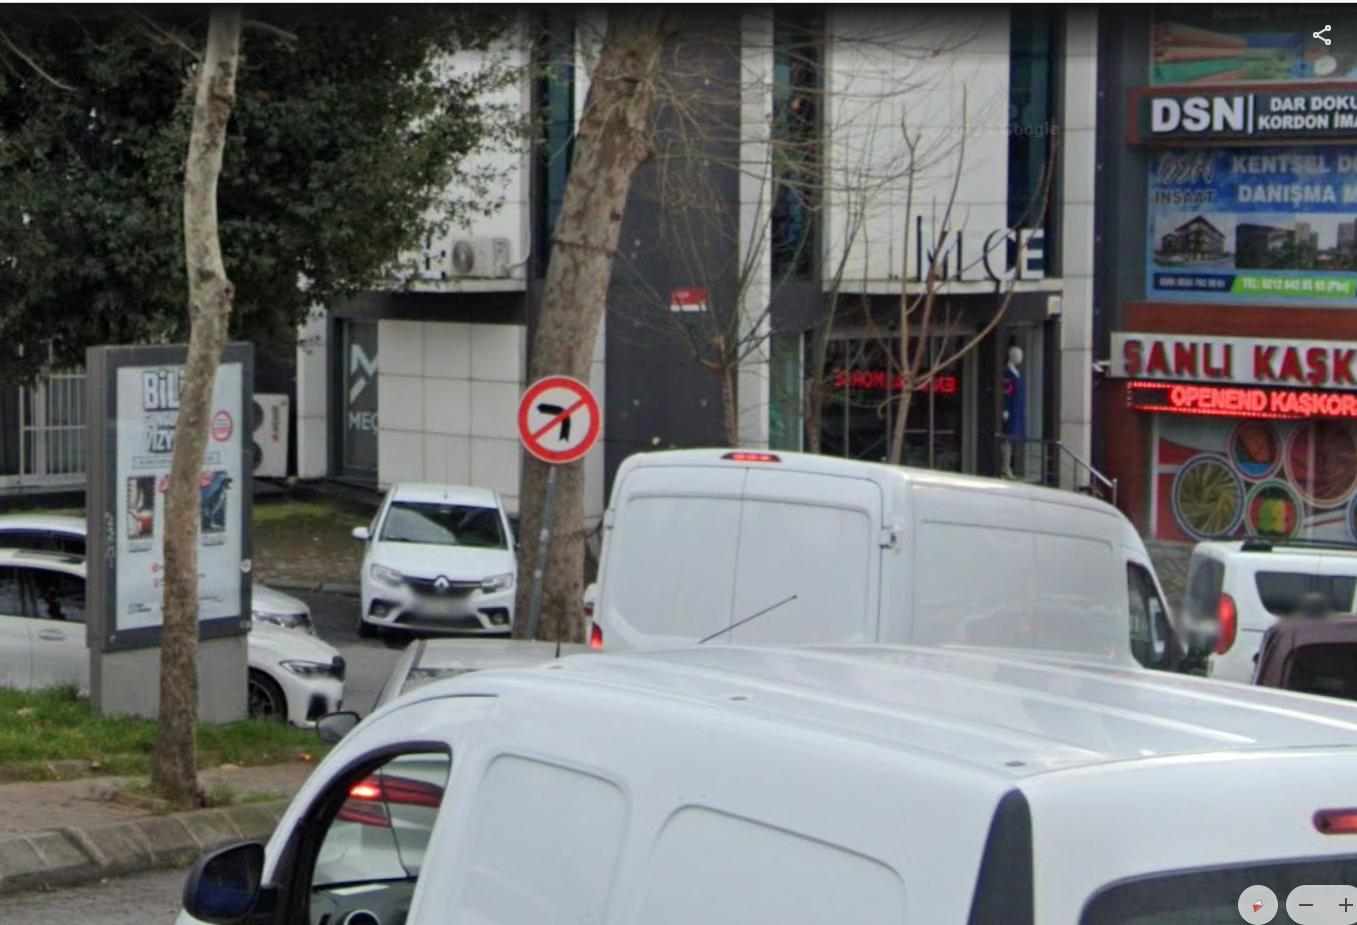leftturnsareforbidden: (521, 376, 599, 461)
